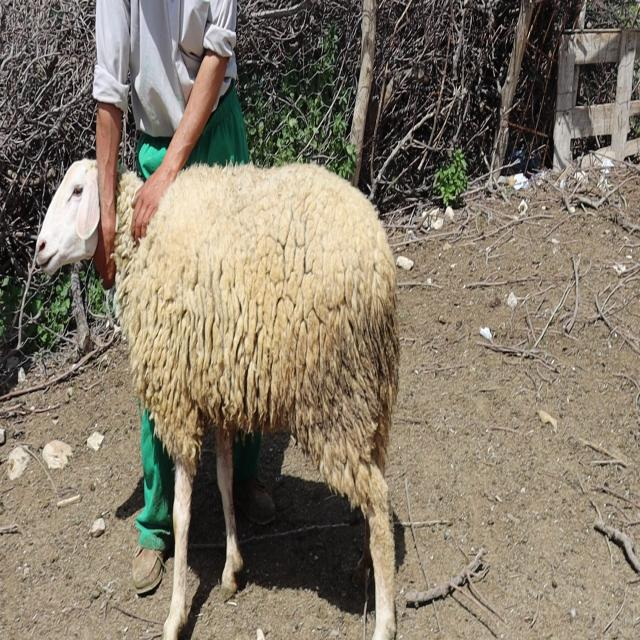Score_5: (114, 164, 400, 639)
